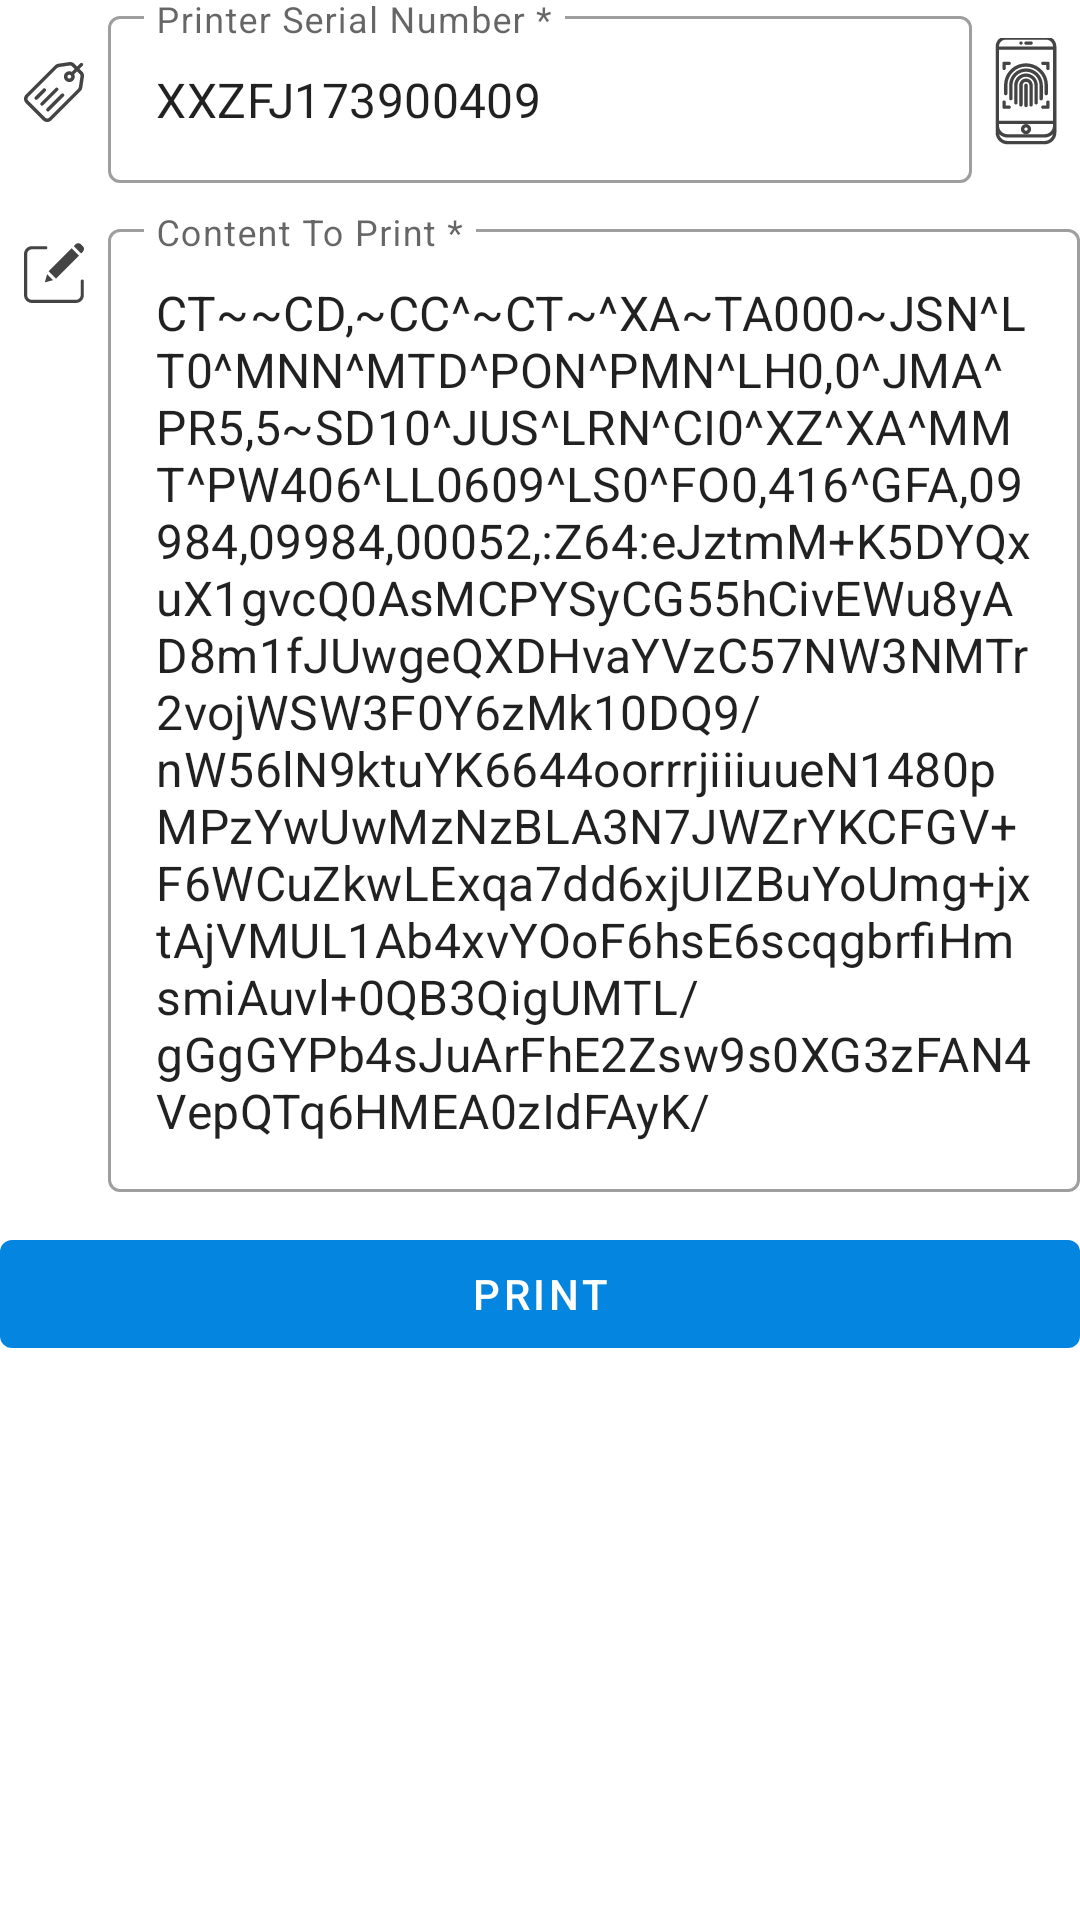

Icons on this 1080 x 1920 Android screen, each with the point to tap as (x,y):
tag: (54,92)
